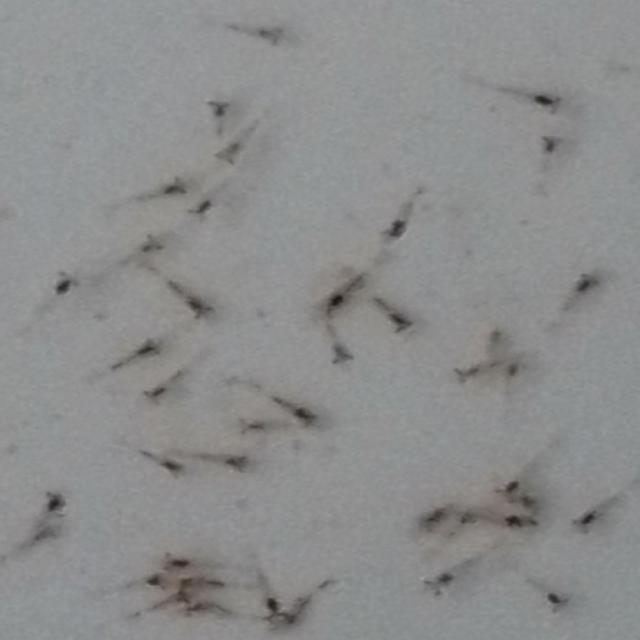shrimp-seed: (109, 338, 159, 368), (274, 598, 318, 628), (250, 21, 290, 49), (186, 293, 222, 321), (326, 339, 362, 367), (528, 92, 568, 116), (536, 131, 568, 159), (540, 586, 572, 614), (52, 268, 86, 294), (422, 572, 456, 598), (233, 412, 269, 436), (140, 382, 173, 408), (138, 230, 170, 256), (449, 362, 484, 384), (570, 511, 600, 536), (289, 406, 323, 428), (184, 199, 215, 223), (160, 173, 192, 196), (576, 270, 604, 296), (142, 568, 170, 594), (381, 220, 411, 244), (156, 458, 190, 479), (212, 142, 244, 164), (30, 524, 65, 544), (386, 309, 415, 333), (316, 292, 346, 314), (222, 452, 255, 472), (174, 570, 204, 592), (44, 492, 72, 514), (207, 96, 234, 118), (160, 551, 192, 569), (493, 478, 519, 500), (520, 512, 546, 534), (456, 506, 482, 528), (418, 506, 446, 526), (497, 510, 522, 532), (162, 586, 188, 606), (506, 361, 528, 384), (183, 598, 211, 616), (484, 328, 510, 346), (260, 596, 286, 614), (516, 492, 542, 509)
